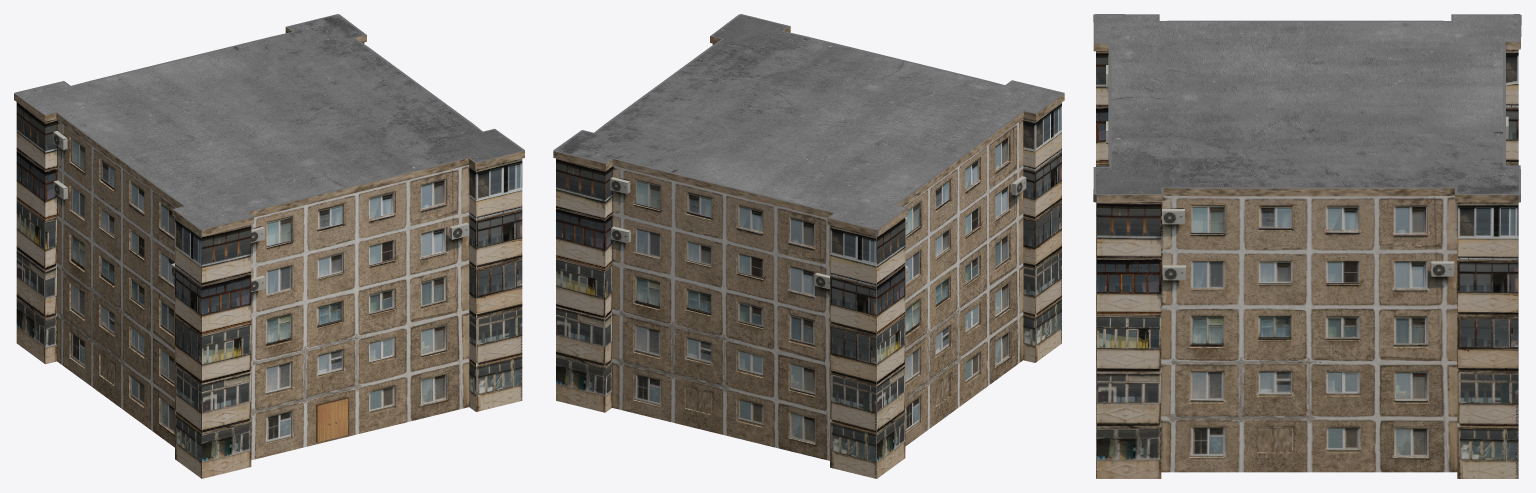
Rendered from APARTMENT_06.fbx.
3 views of the same model, side by side, from view 1: azimuth 30°, elevation 25°; view 2: azimuth 150°, elevation 25°; view 3: azimuth 270°, elevation 25° (orthographic). The views are drawn at different scales.
Visible parts, largest first — view 1: APARTMENT_06; view 2: APARTMENT_06; view 3: APARTMENT_06.
Boxes of the visible parts, x1,y1,x2,y2 form: APARTMENT_06: (14,14,524,478); APARTMENT_06: (553,14,1064,478); APARTMENT_06: (1093,14,1521,478).
Size of the model in its own units: 2124 by 1559 by 2122.
